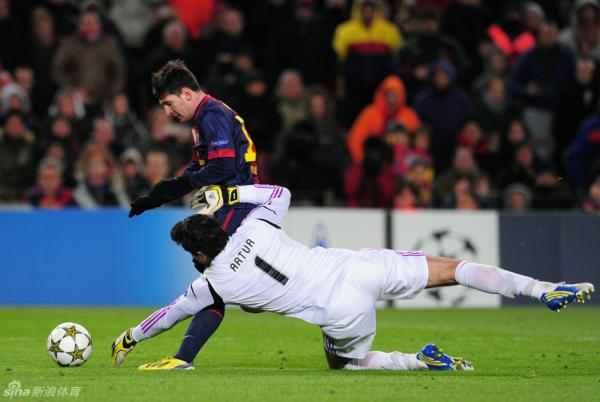10+: (5, 1, 594, 378)
down: (104, 180, 598, 376)
